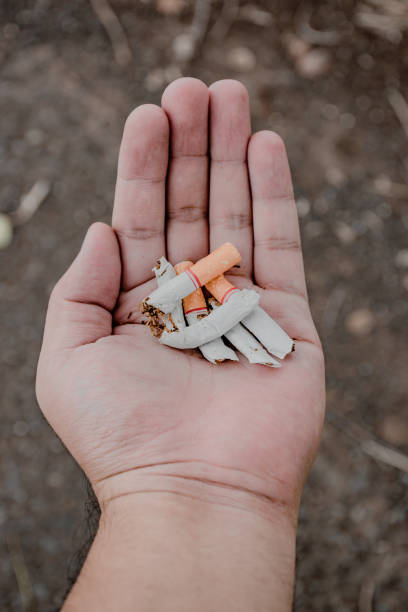cigarette: (140, 241, 262, 351), (155, 281, 264, 358), (203, 274, 296, 360), (172, 259, 241, 365), (200, 285, 284, 369), (151, 255, 188, 330)
